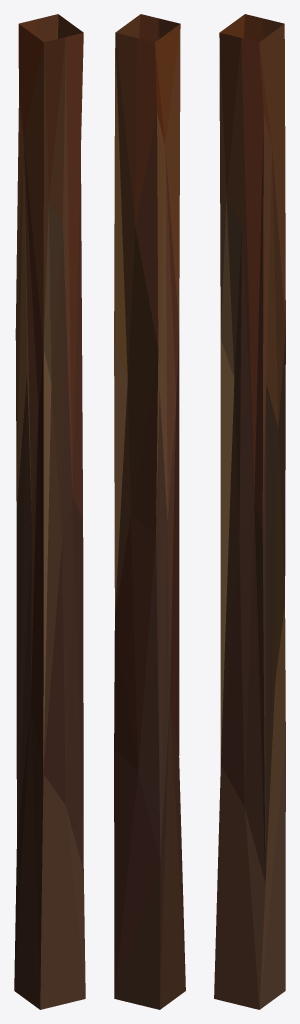
Rendered from Wall_HomeA-CornerOuterF.fbx.
The picture shows the model from 3 angles, left to right: view 1: azimuth 30°, elevation 25°; view 2: azimuth 150°, elevation 25°; view 3: azimuth 330°, elevation 25°; orthographic projection.
Parts seen in each view (by area): view 1: Wall_HomeA-CornerOuterF; view 2: Wall_HomeA-CornerOuterF; view 3: Wall_HomeA-CornerOuterF.
Part boxes in pixels (bbox=[...]): Wall_HomeA-CornerOuterF: bbox=[14, 14, 85, 1009]; Wall_HomeA-CornerOuterF: bbox=[114, 14, 185, 1009]; Wall_HomeA-CornerOuterF: bbox=[214, 14, 285, 1009].
Bounding box in the file's own units: 12.81 × 249 × 13.13.
